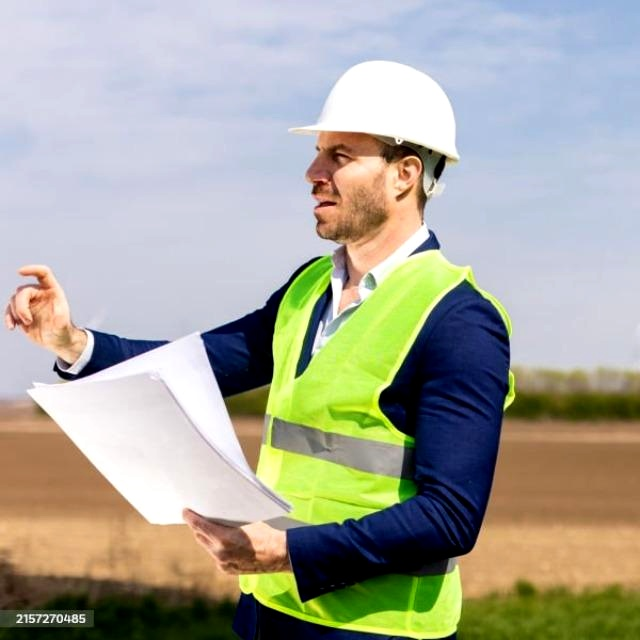Con_Casco: (289, 59, 461, 244)
Con_Chaleco: (256, 247, 475, 633)
